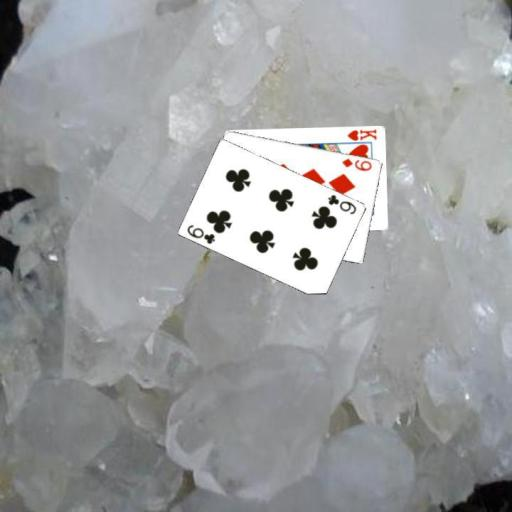6C: (325, 192, 358, 216), (184, 222, 217, 245)
9D: (340, 155, 374, 172)
KH: (344, 126, 378, 142)
